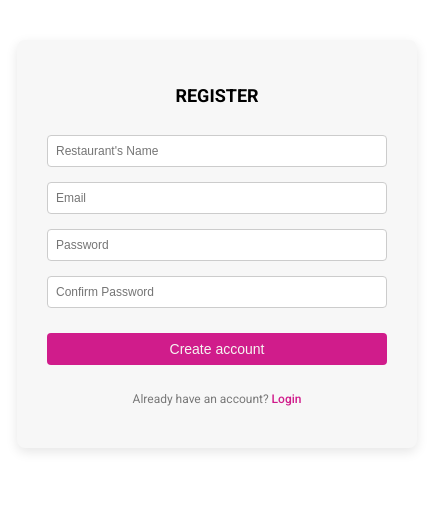
Test case: Register Page › shows validation errors for empty fields
Step 1. Click the button "Create account" → point(217, 349), box [47, 333, 387, 365]
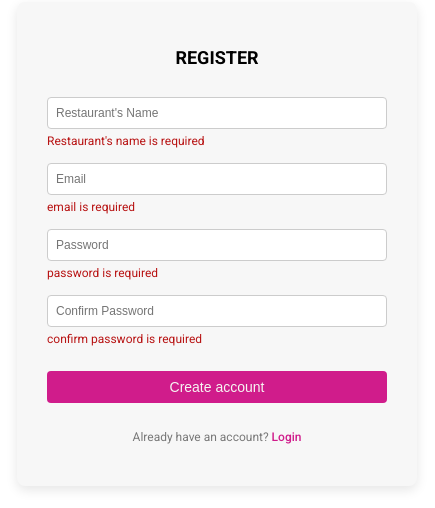
Result: the text "Restaurant's name is required" is shown at [47, 134, 205, 148]
Result: the text "email is required" is shown at [47, 200, 135, 214]
Result: the text "password is required" is shown at [47, 266, 158, 280]
